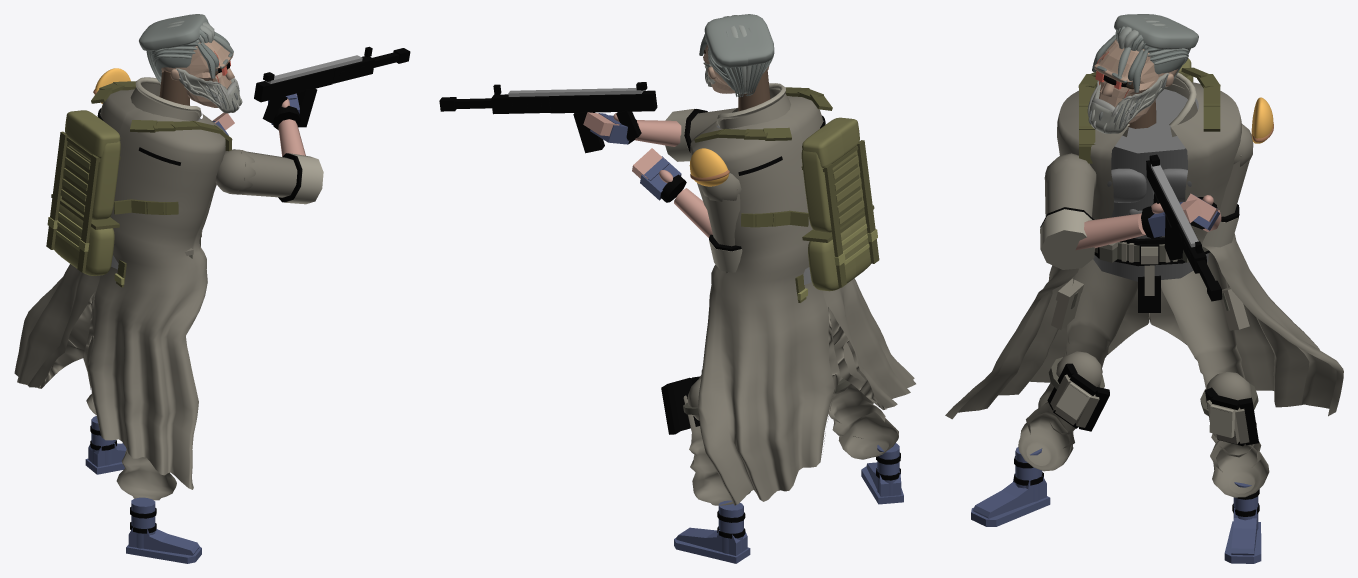
File: hero.glb
3 views of the same model, side by side, from view 1: azimuth 30°, elevation 25°; view 2: azimuth 150°, elevation 25°; view 3: azimuth 270°, elevation 25° (orthographic). The views are drawn at different scales.
Visible parts, largest first — view 1: coatLong, coat, packPocket, sleeveR, shinR, hairCapLO, packBody, packFlap, coatVent, deltoidR, receiver, face (+20 smaller); view 2: coatLong, coat, shinR, hairCapLO, packPocket, receiver, packBody, shinL, packFlap, coatVent, sleeveL, bootL (+22 smaller); view 3: coatLining, coat, torso, thighMeshL, coatLong, thighMeshR, coatLapel, shinR, shinL, cuffR, sleeveR, hairCapLO (+30 smaller).
Part boxes in pixels (x1,y1,x2,y2): coatLong: (14, 264, 207, 489); coat: (100, 89, 225, 286); packPocket: (54, 204, 114, 275); sleeveR: (229, 149, 297, 197); shinR: (116, 449, 176, 500); hairCapLO: (139, 14, 208, 51); packBody: (61, 141, 120, 220); packFlap: (65, 110, 120, 158); coatVent: (38, 290, 98, 429); deltoidR: (215, 149, 255, 194); receiver: (254, 68, 334, 102); face: (185, 40, 231, 107); coatLong: (698, 278, 915, 505); coat: (690, 96, 822, 301); shinR: (828, 384, 898, 459); hairCapLO: (704, 14, 774, 67); packPocket: (808, 216, 871, 291); receiver: (548, 90, 657, 113); packBody: (801, 150, 863, 232); shinL: (683, 395, 750, 505); packFlap: (802, 117, 859, 167); coatVent: (822, 307, 886, 454); sleeveL: (703, 188, 740, 246); bootL: (676, 527, 747, 555); coatLining: (958, 277, 1336, 412); coat: (1057, 82, 1241, 268); torso: (1093, 89, 1208, 281); thighMeshL: (1161, 252, 1245, 389); coatLong: (945, 251, 1343, 419); thighMeshR: (1062, 259, 1137, 369); coatLapel: (1069, 146, 1231, 272); shinR: (1018, 382, 1099, 471); shinL: (1210, 379, 1269, 497); cuffR: (1040, 209, 1094, 269); sleeveR: (1044, 159, 1094, 217); hairCapLO: (1114, 14, 1198, 49).
Bounding box in the file's own units: 1.54 × 1.86 × 1.25.
